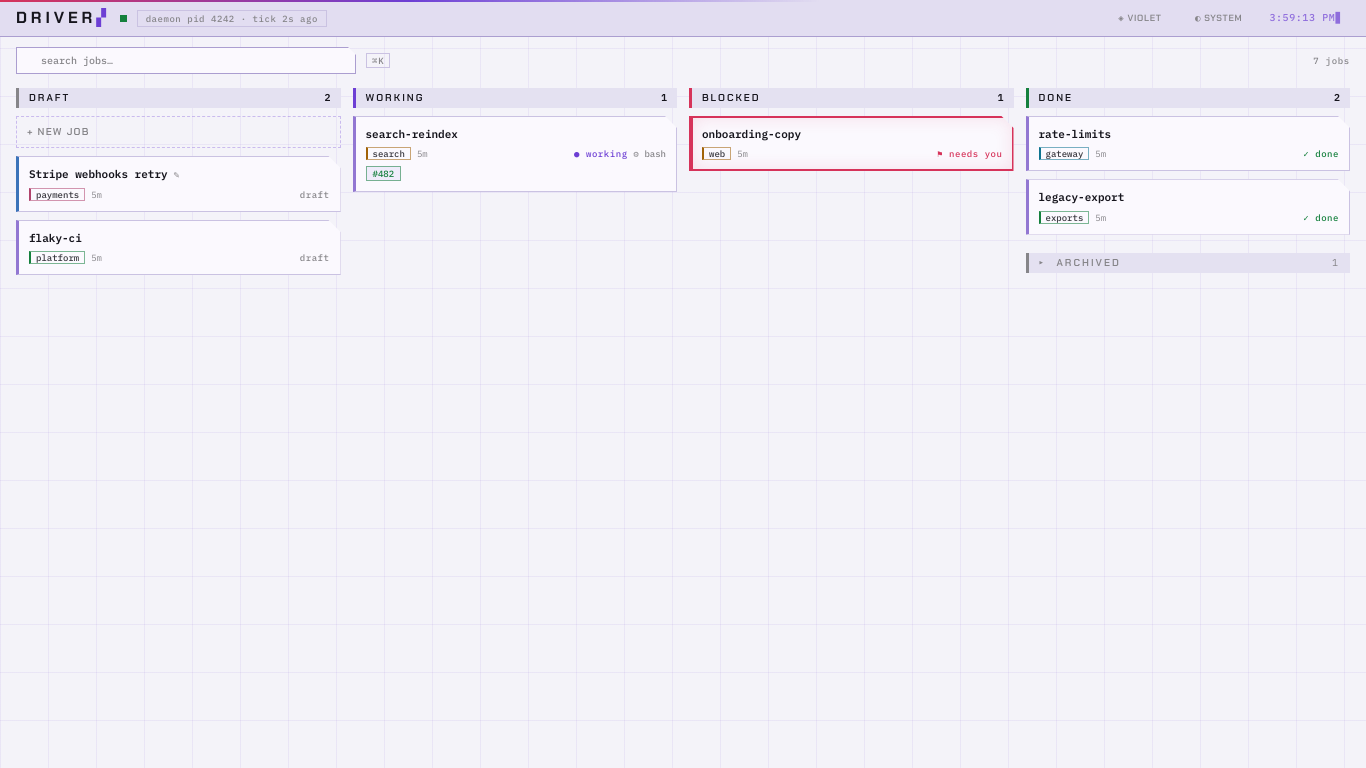
BoardView (DOM smoke test) › filters cards by search and shows the matched read-out
Expected: the text "Stripe webhooks retry" is shown, x1=29 y1=167 x2=168 y2=181
Type "reindex" into the field labelled "search jobs" at (186, 60), box x1=16 y1=47 x2=356 y2=74
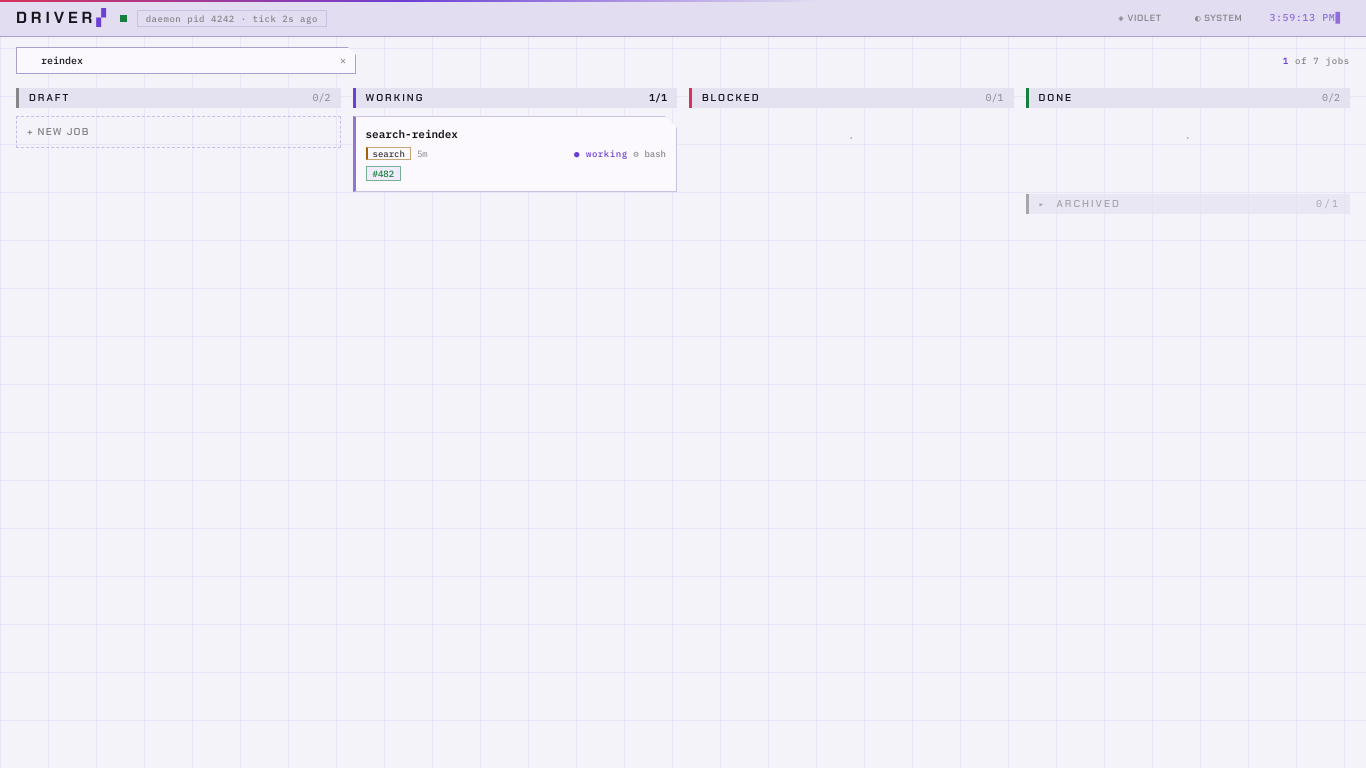
Expected: the text "search-reindex" is shown, x1=366 y1=127 x2=458 y2=141
Expected: the button "flaky-ci" is gone
Expected: the text "of 7 jobs" is shown, x1=1283 y1=56 x2=1350 y2=65
the typed name is searched too
Replace the text in the field named "search jobs" with "retry" at (186, 60), box x1=16 y1=47 x2=356 y2=74
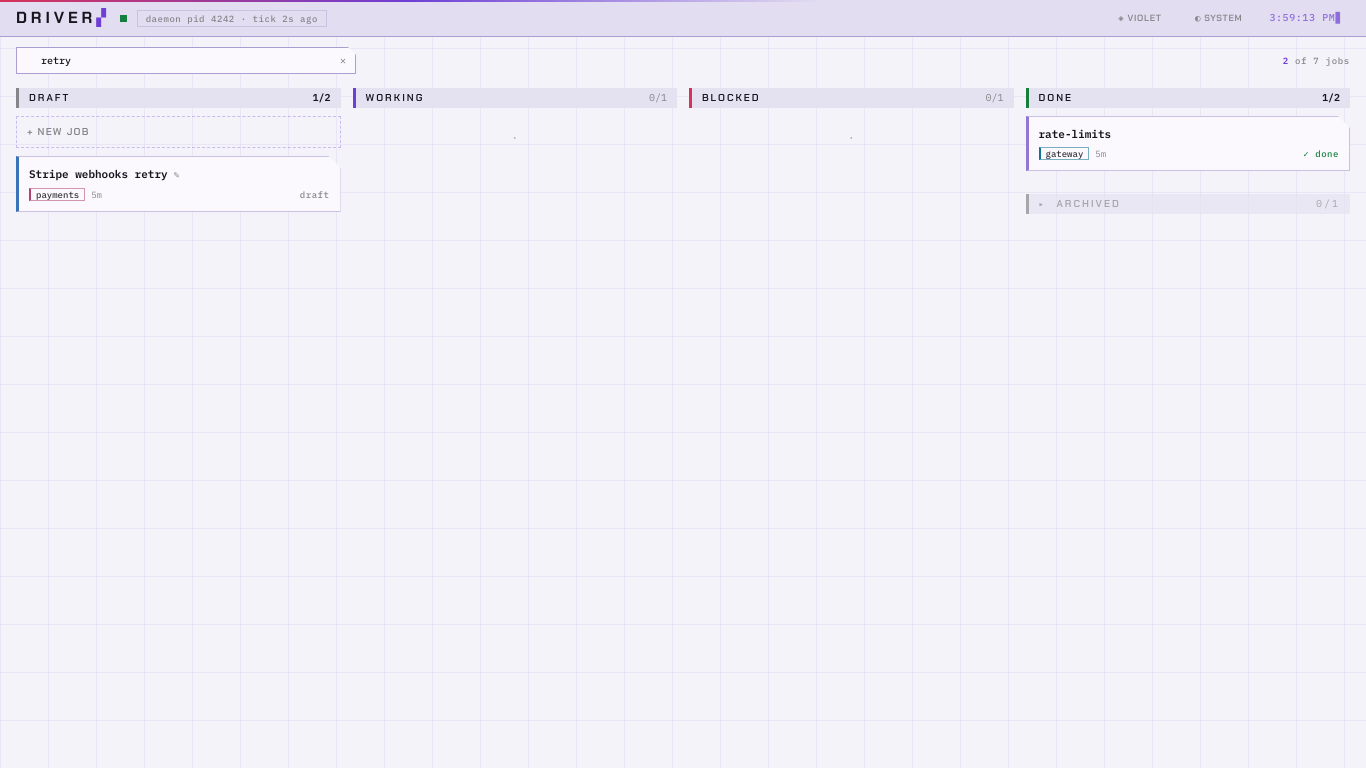
Expected: the text "Stripe webhooks retry" is shown, x1=29 y1=167 x2=168 y2=181
Expected: the button "search-reindex" is gone
Press Escape in the field named "search jobs", box x1=16 y1=47 x2=356 y2=74
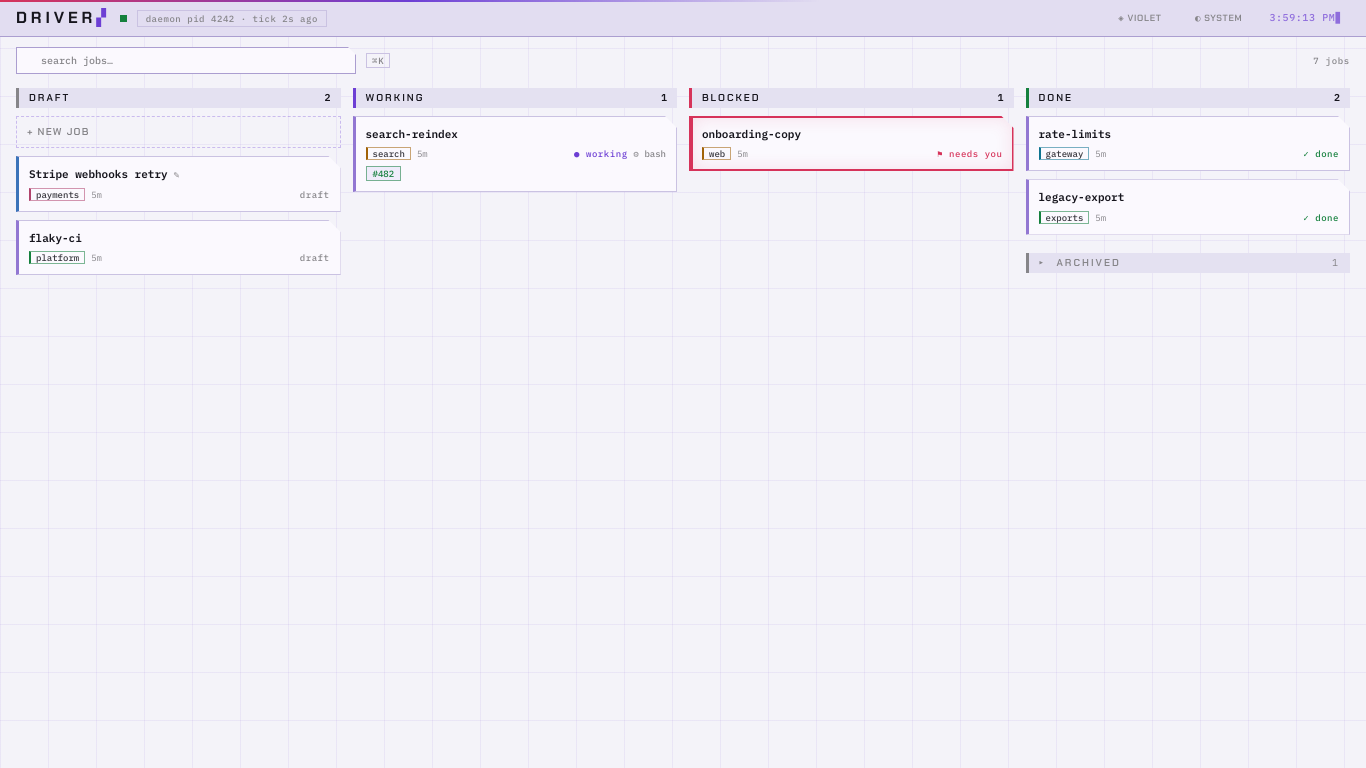
Expected: the text "flaky-ci" is shown, x1=29 y1=231 x2=82 y2=245
